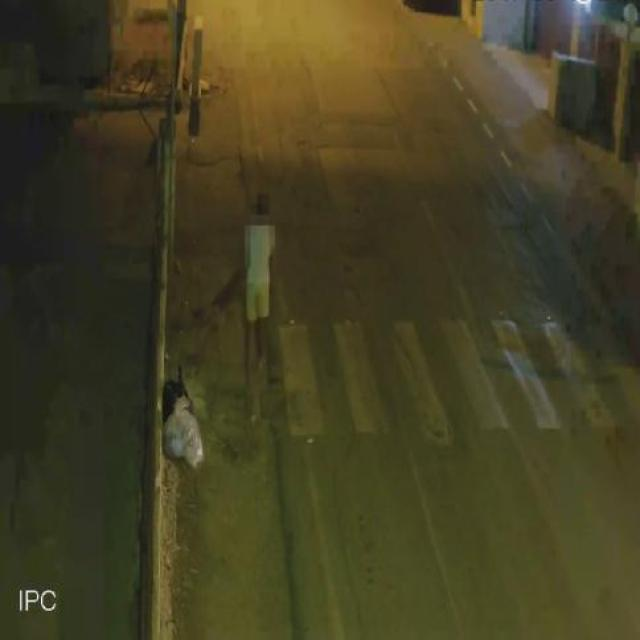Anorganik: (163, 399, 210, 472), (158, 369, 201, 425)
